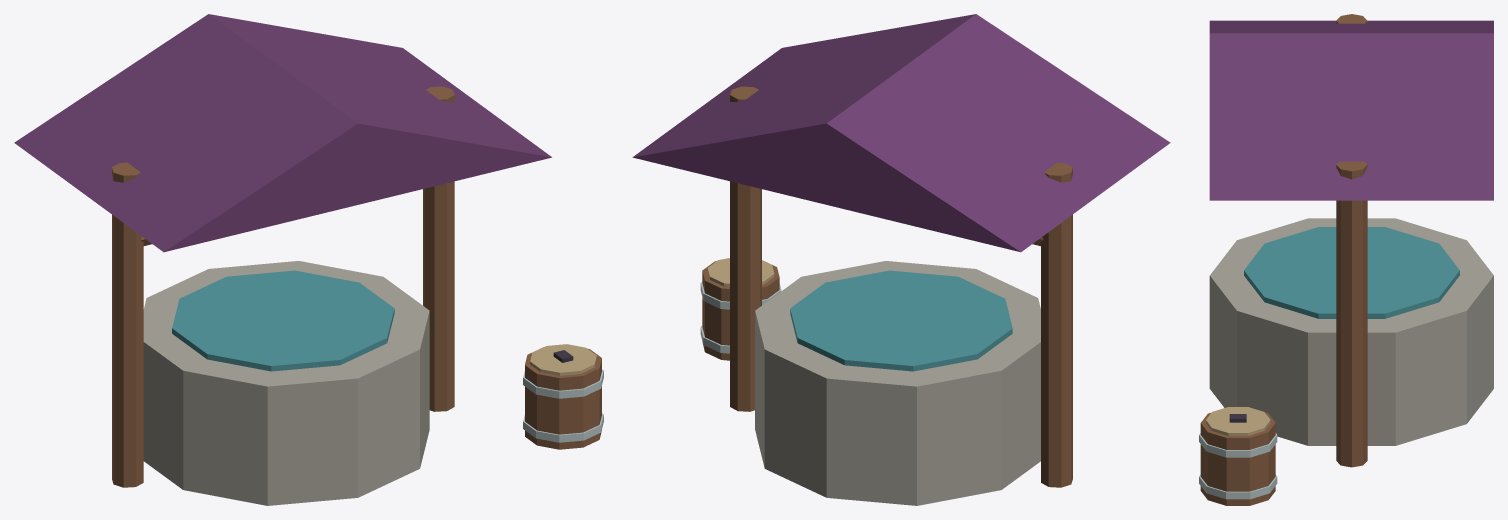
Rendered from well.glb.
The picture shows the model from 3 angles, left to right: view 1: azimuth 30°, elevation 25°; view 2: azimuth 150°, elevation 25°; view 3: azimuth 270°, elevation 25°; orthographic projection. The views are drawn at different scales.
Parts seen in each view (by area): view 1: gable.007, Cone.211, Cone.212, Cone.213, Cone.214, Cone.216, Cone.219, Cone.217, Cone.218; view 2: gable.007, Cone.211, Cone.212, Cone.213, Cone.214, Cone.216, Cone.219; view 3: gable.007, Cone.211, Cone.212, Cone.214, Cone.216, Cone.219, Cone.217, Cone.218.
Part boxes in pixels (x1,y1,x2,y2): gable.007: [14, 14, 551, 252]; Cone.211: [143, 261, 429, 505]; Cone.212: [172, 270, 394, 371]; Cone.213: [112, 162, 143, 487]; Cone.214: [423, 86, 454, 411]; Cone.216: [525, 347, 601, 449]; Cone.219: [530, 344, 596, 375]; Cone.217: [523, 413, 603, 442]; Cone.218: [523, 369, 603, 398]; gable.007: [632, 14, 1170, 252]; Cone.211: [755, 261, 1040, 505]; Cone.212: [790, 270, 1012, 371]; Cone.213: [1041, 162, 1072, 487]; Cone.214: [730, 86, 761, 411]; Cone.216: [702, 260, 779, 360]; Cone.219: [707, 258, 774, 286]; gable.007: [1209, 20, 1493, 200]; Cone.211: [1209, 218, 1493, 445]; Cone.212: [1244, 227, 1459, 318]; Cone.214: [1336, 161, 1367, 467]; Cone.216: [1200, 412, 1275, 505]; Cone.219: [1206, 407, 1270, 435]; Cone.217: [1199, 475, 1277, 499]; Cone.218: [1199, 433, 1277, 457].
Bounding box in the file's own units: 1.73 × 1.38 × 1.04.
